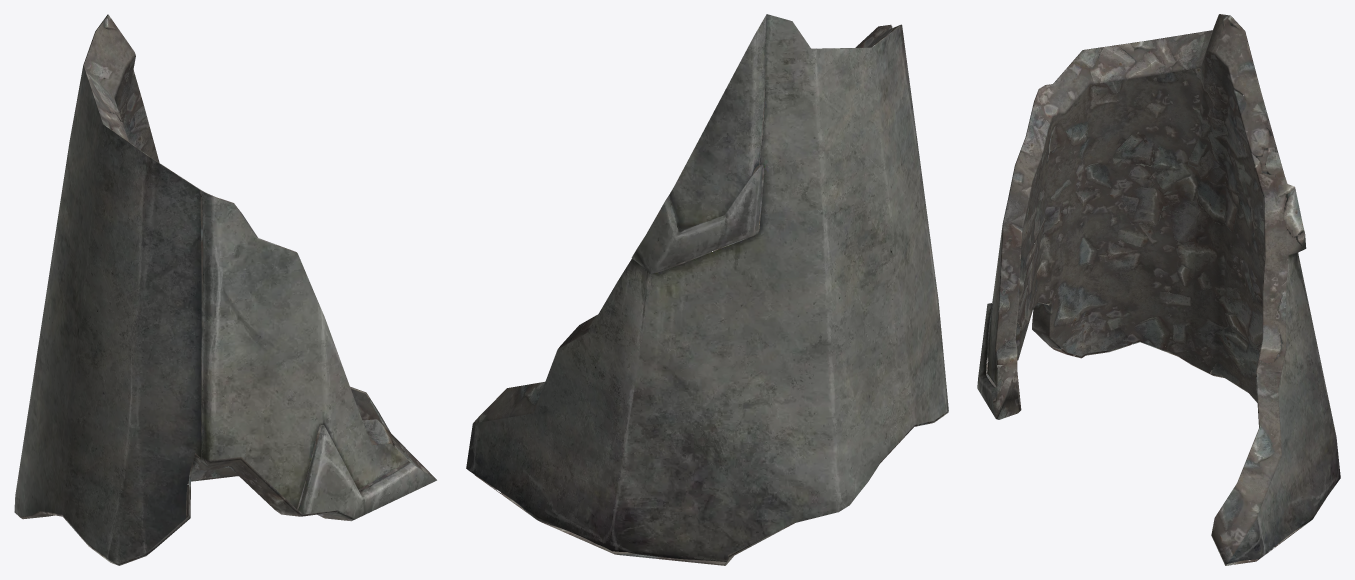
3 views of the same model, side by side, from view 1: azimuth 30°, elevation 25°; view 2: azimuth 150°, elevation 25°; view 3: azimuth 270°, elevation 25° (orthographic). The views are drawn at different scales.
Parts seen in each view (by area): view 1: SM_SaradominTemple_Statue_01v6_LOD0; view 2: SM_SaradominTemple_Statue_01v6_LOD0; view 3: SM_SaradominTemple_Statue_01v6_LOD0.
Part boxes in pixels (<box>): SM_SaradominTemple_Statue_01v6_LOD0: <box>14,14,436,565</box>; SM_SaradominTemple_Statue_01v6_LOD0: <box>466,14,948,565</box>; SM_SaradominTemple_Statue_01v6_LOD0: <box>977,14,1340,565</box>.
Bounding box in the file's own units: 3.77 × 4.84 × 3.65.
2 materials, 2 textured.
